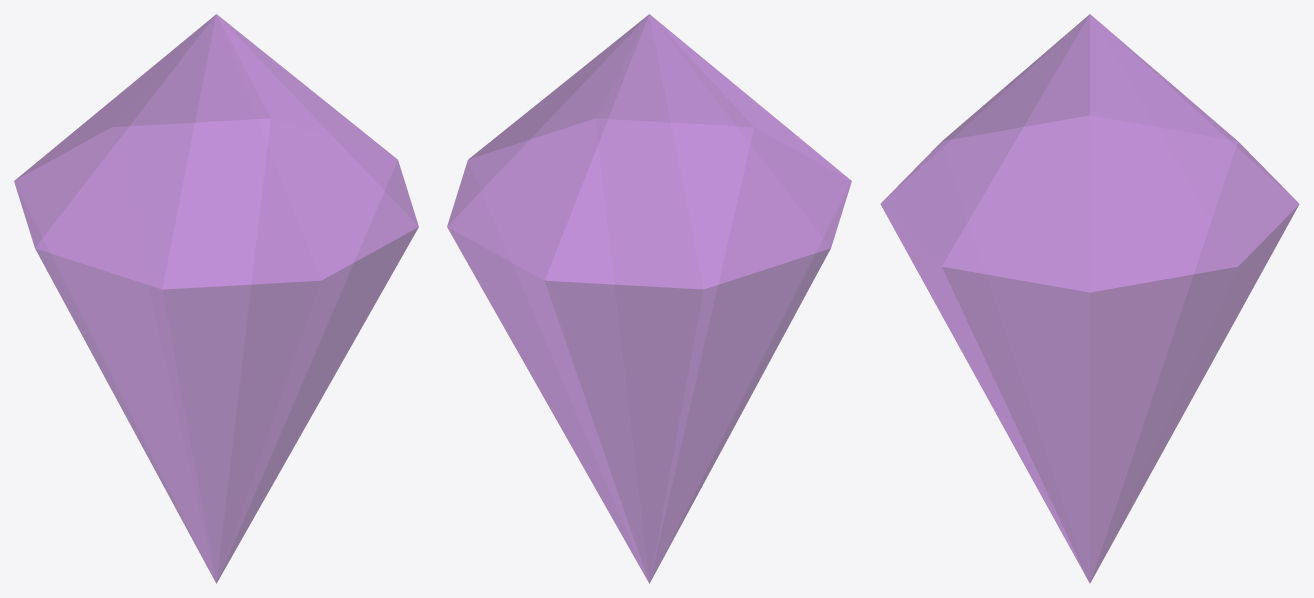
The model's file is gem.fbx.
3 renders of one model, left to right at view 1: azimuth 30°, elevation 25°; view 2: azimuth 150°, elevation 25°; view 3: azimuth 270°, elevation 25°, orthographic.
Parts seen in each view (by area): view 1: Gem; view 2: Gem; view 3: Gem.
Part boxes in pixels (x1=…): Gem: x1=14, y1=14, x2=418, y2=583; Gem: x1=447, y1=14, x2=851, y2=583; Gem: x1=880, y1=14, x2=1299, y2=582.
Size of the model in its own units: 40 by 60 by 40.
